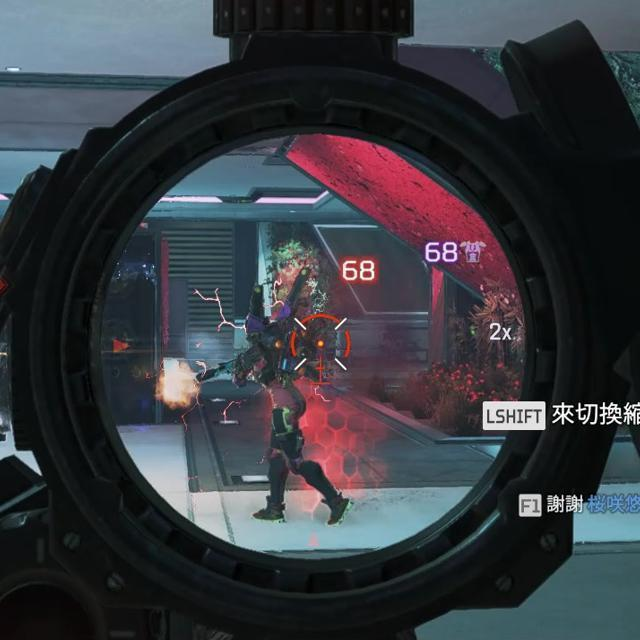avatar: (228, 307, 356, 530)
object: (157, 361, 198, 408)
